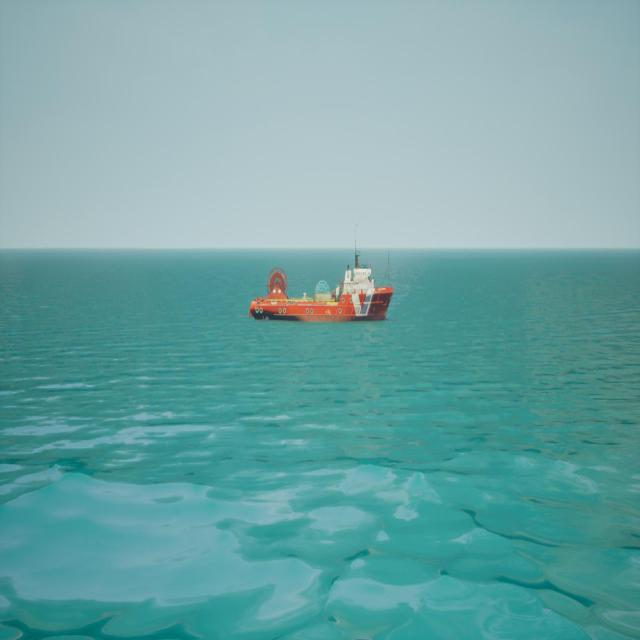tug boat: (250, 242, 396, 325)
